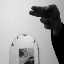h: (26, 3, 60, 30)
